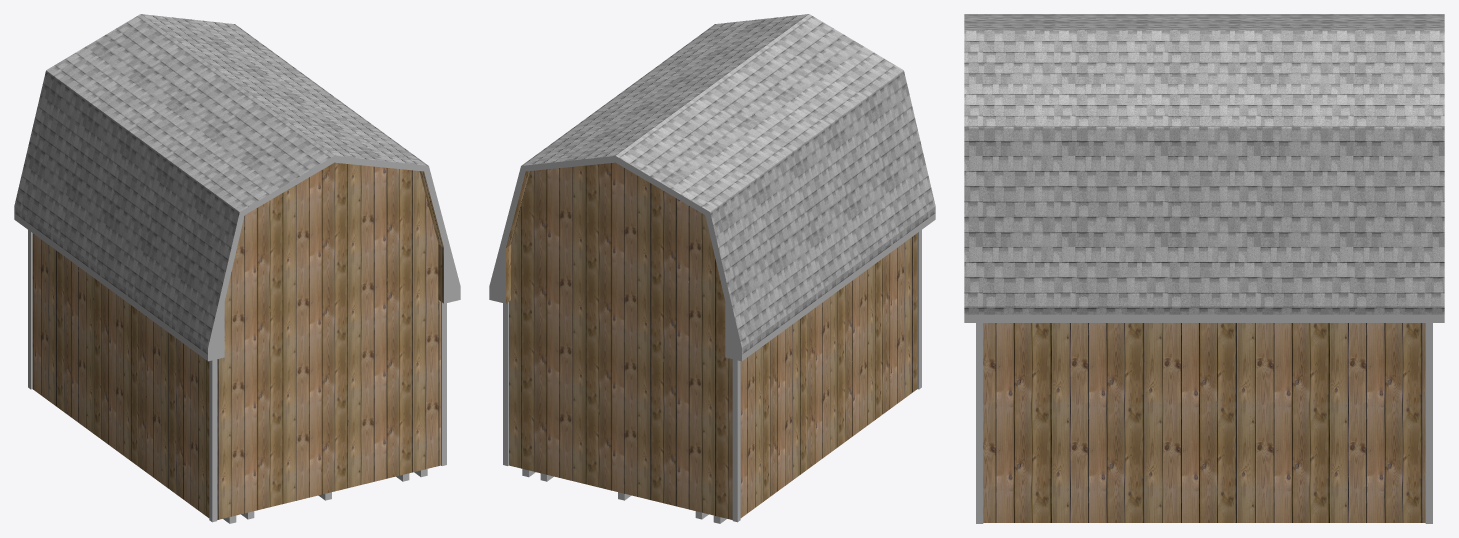
The model's file is Two Story Gambrel_12x16.obj.
The picture shows the model from 3 angles, left to right: view 1: azimuth 30°, elevation 25°; view 2: azimuth 150°, elevation 25°; view 3: azimuth 270°, elevation 25°; orthographic projection. The views are drawn at different scales.
Parts seen in each view (by area): view 1: Shed, Roof, Sides, Trim; view 2: Shed, Roof, Sides, Trim; view 3: Roof, Shed, Sides, Trim.
Part boxes in pixels (box(x1,y1,x2,y2)): Shed: box(32, 162, 443, 519); Roof: box(14, 14, 428, 354); Sides: box(14, 156, 460, 361); Trim: box(28, 230, 446, 522); Shed: box(506, 162, 917, 519); Roof: box(521, 14, 935, 354); Sides: box(489, 156, 935, 361); Trim: box(503, 230, 921, 522); Roof: box(964, 14, 1444, 314); Shed: box(983, 323, 1425, 522); Sides: box(964, 314, 1444, 322); Trim: box(976, 323, 1432, 523).
Size of the model in its own units: 3.9 by 5.14 by 5.18.
